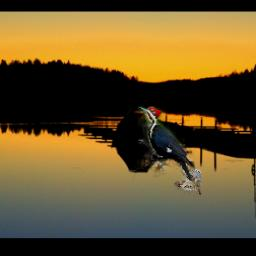Sparrow: (175, 170, 202, 198)
Woodpecker: (138, 106, 195, 182)
